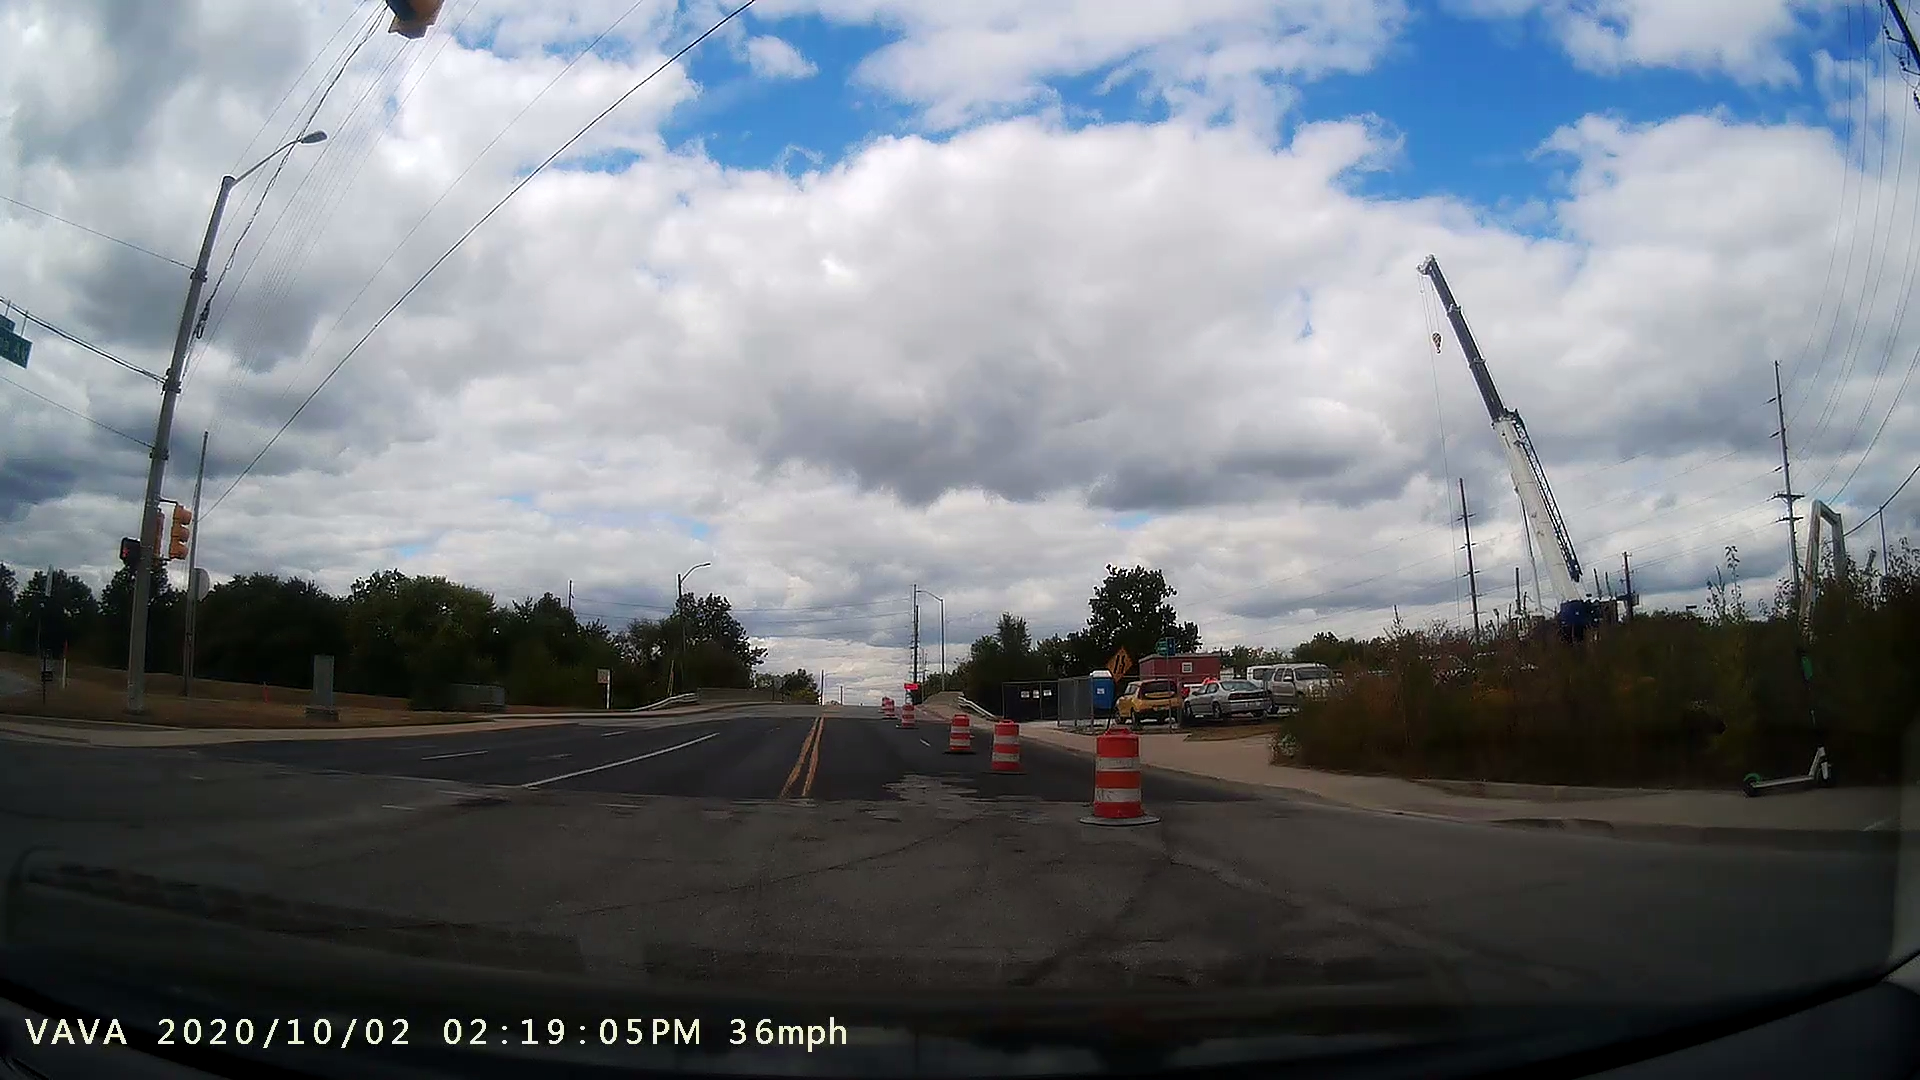const_barrel: (1071, 719, 1170, 849), (981, 700, 1029, 787), (938, 695, 981, 764)
